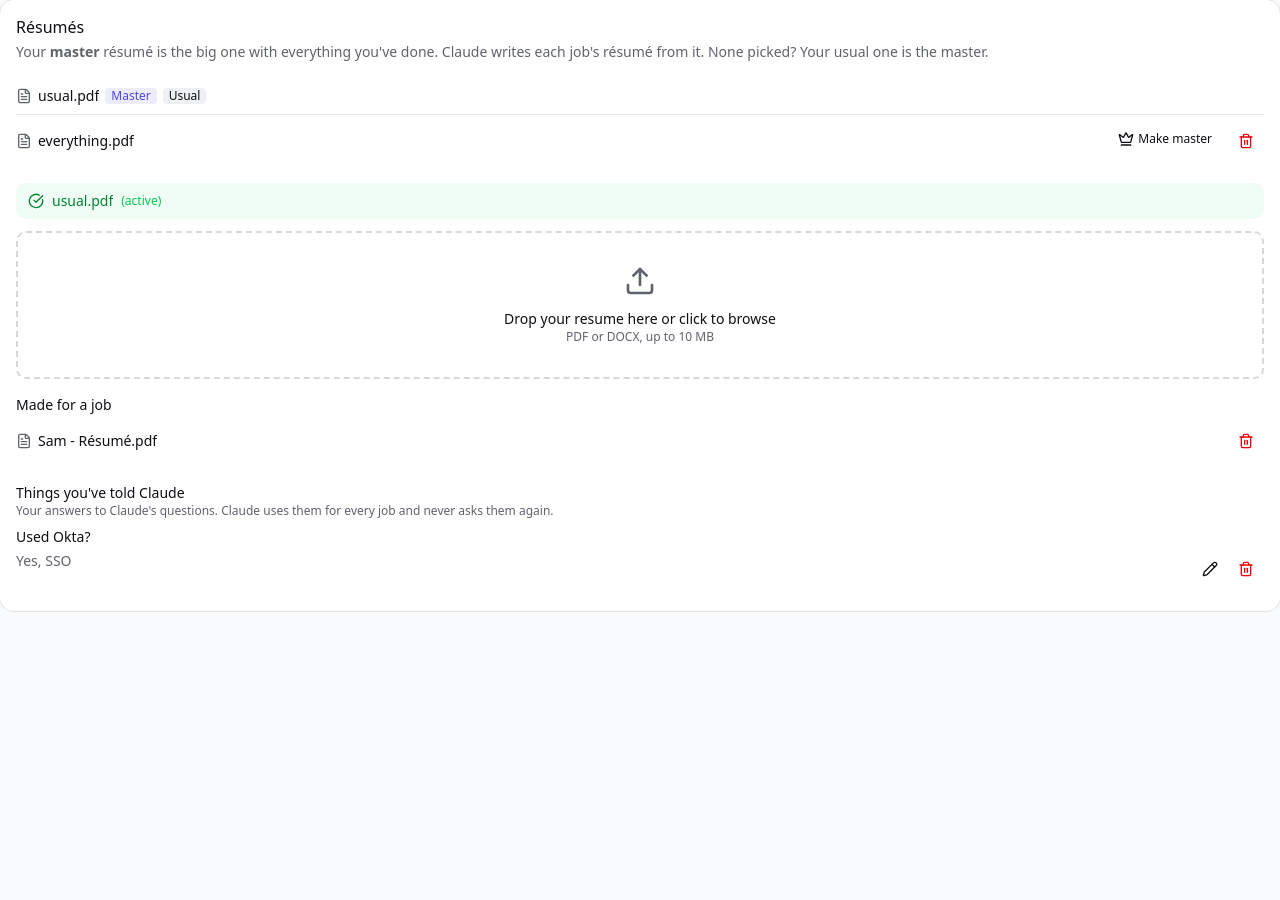
Test: Settings › Résumés › opens a résumé in the app, not a new tab
The image size is (1280, 900).
Click the button "everything.pdf" at (75, 141), box [16,131,134,151]
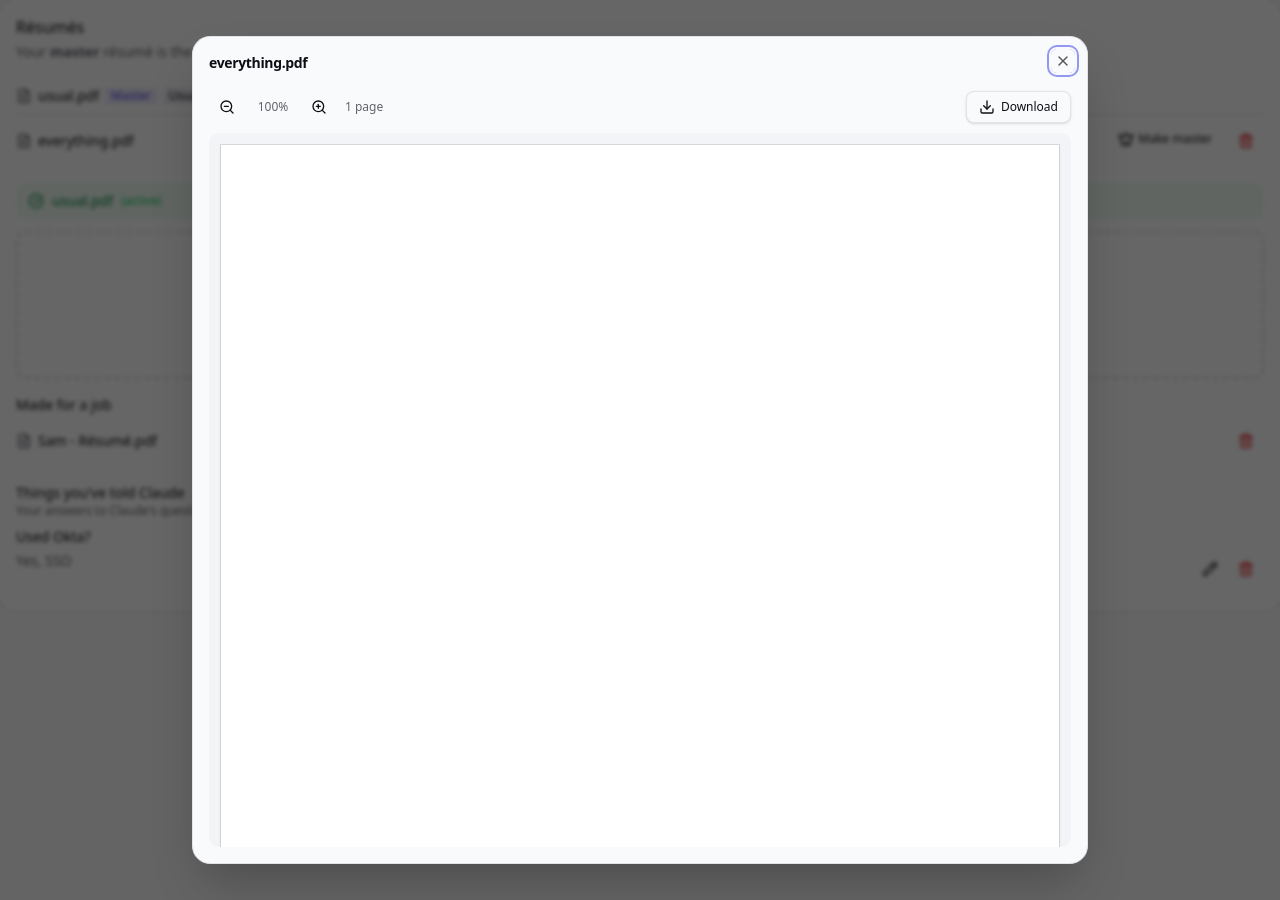
Check: the picture named "Page 1 of 1" is shown, box [221,145,1059,847]
Check: the button "Download" is shown, box [966,91,1071,123]
